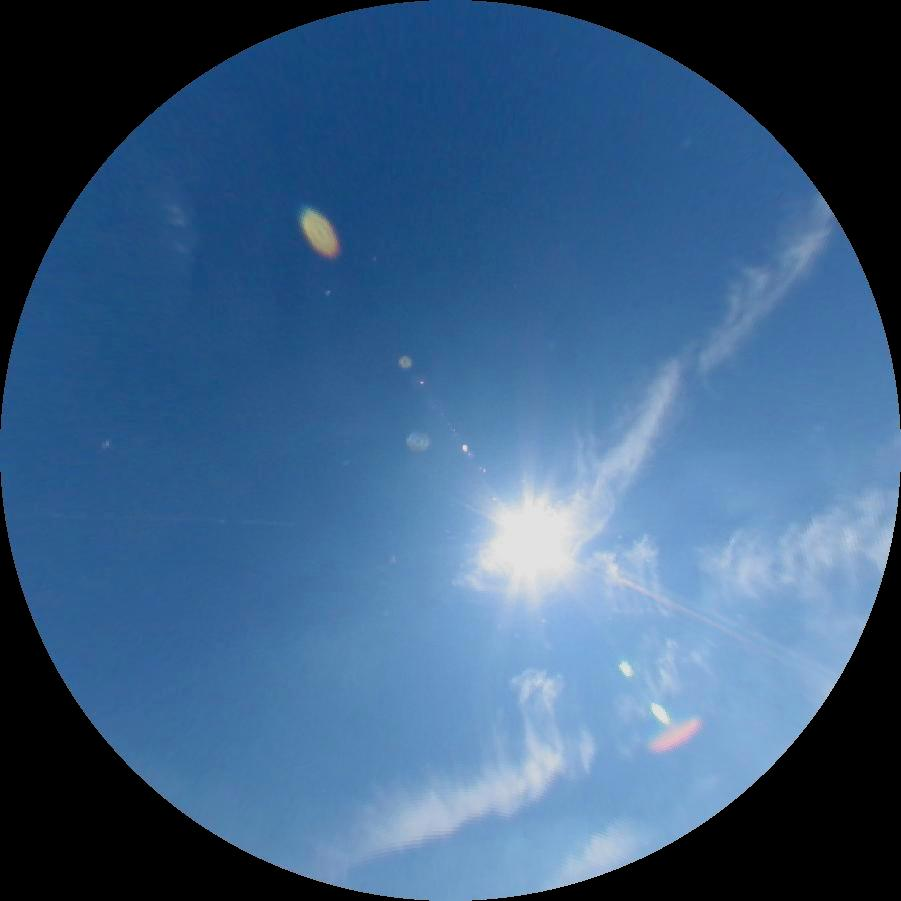contrail veryold: (537, 185, 850, 556)
parasite: (605, 570, 761, 650)
sun: (492, 503, 568, 576)
